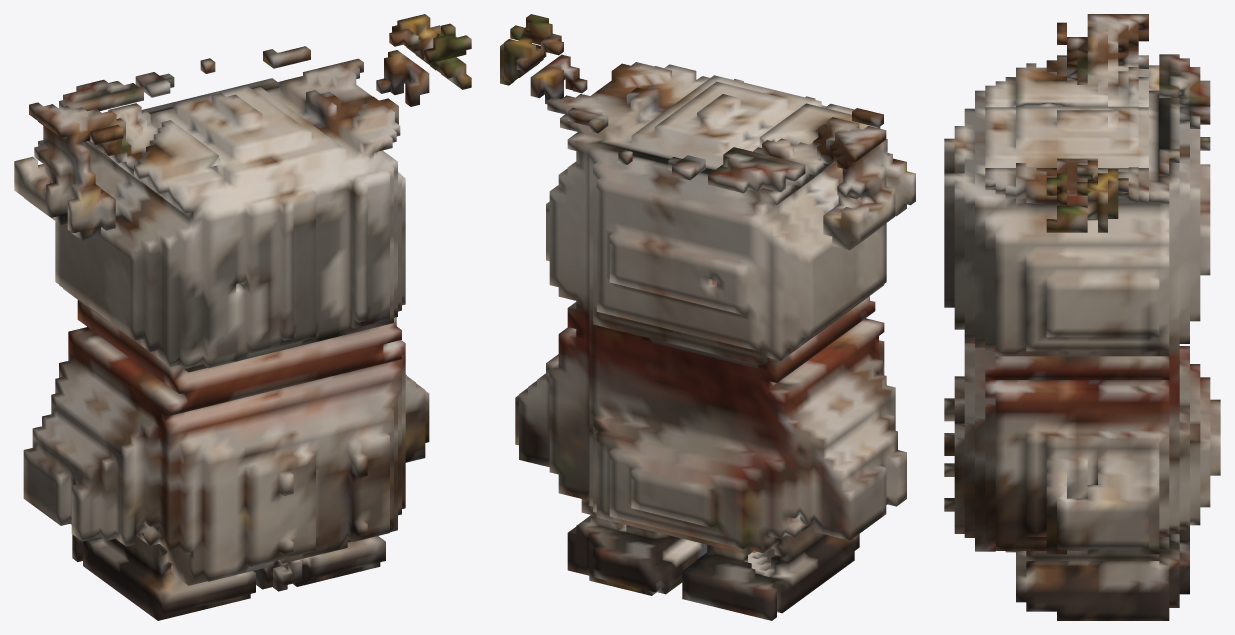
File: sheet2_L10.glb
The picture shows the model from 3 angles, left to right: view 1: azimuth 30°, elevation 25°; view 2: azimuth 150°, elevation 25°; view 3: azimuth 270°, elevation 25°; orthographic projection. The views are drawn at different scales.
Parts seen in each view (by area): view 1: BPT_sheet2_L10; view 2: BPT_sheet2_L10; view 3: BPT_sheet2_L10.
Boxes of the visible parts, x1,y1,x2,y2 form: BPT_sheet2_L10: [14, 14, 471, 620]; BPT_sheet2_L10: [500, 14, 915, 620]; BPT_sheet2_L10: [944, 14, 1220, 620].
Bounding box in the file's own units: 1.65 × 2 × 1.04.
